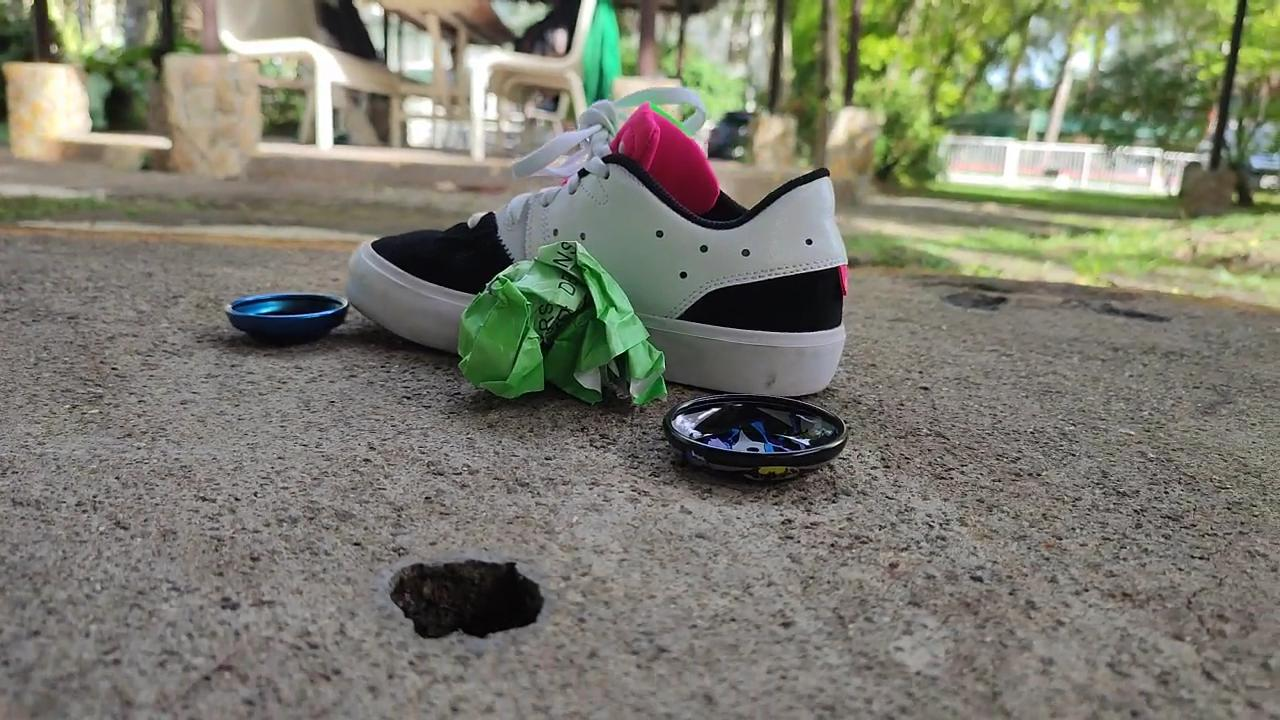Paper: (451, 210, 680, 430)
